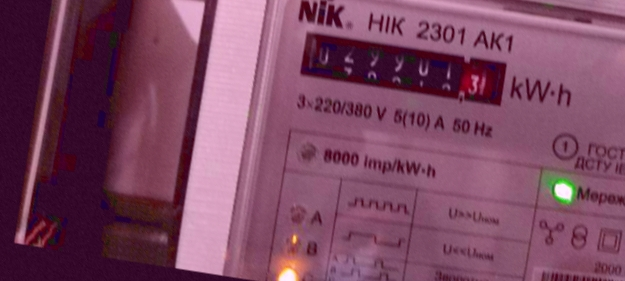0: (413, 51, 432, 78), (313, 41, 331, 65)
1: (440, 55, 456, 81)
2: (339, 40, 358, 64)
3: (463, 71, 481, 96)
9: (389, 49, 405, 74), (365, 44, 380, 67)
screen: (289, 21, 517, 117)
